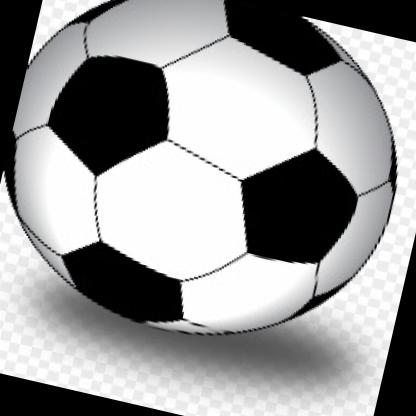ball: (0, 0, 416, 380)
